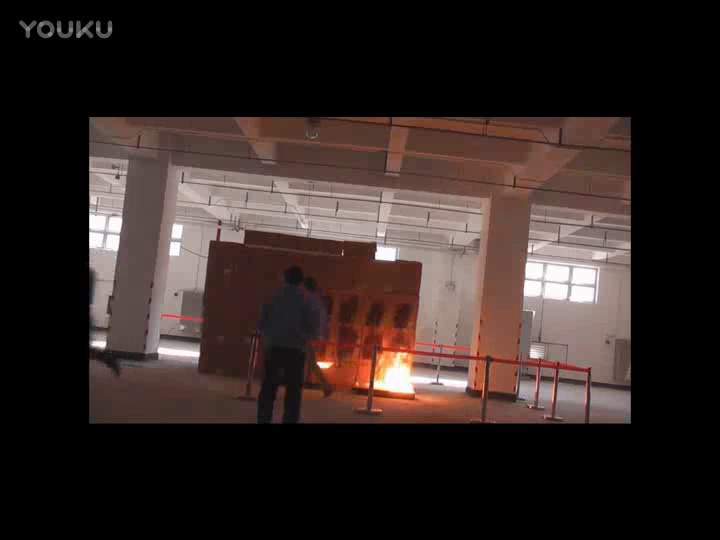fire: (363, 335, 417, 398)
